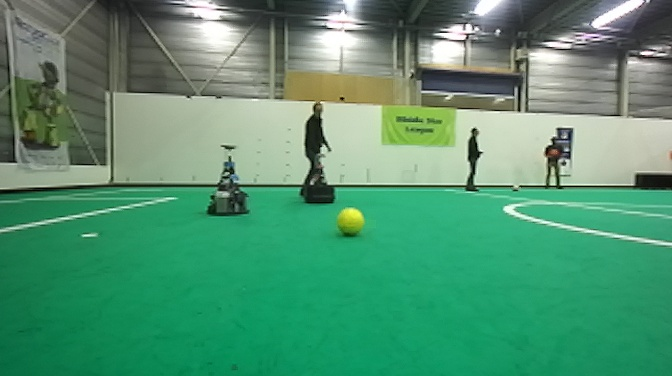ball: (336, 208, 365, 237), (510, 182, 521, 192), (547, 147, 556, 158)
human: (301, 100, 334, 194), (464, 129, 486, 191), (540, 154, 560, 189)
robot: (205, 143, 252, 217), (305, 154, 337, 205)
